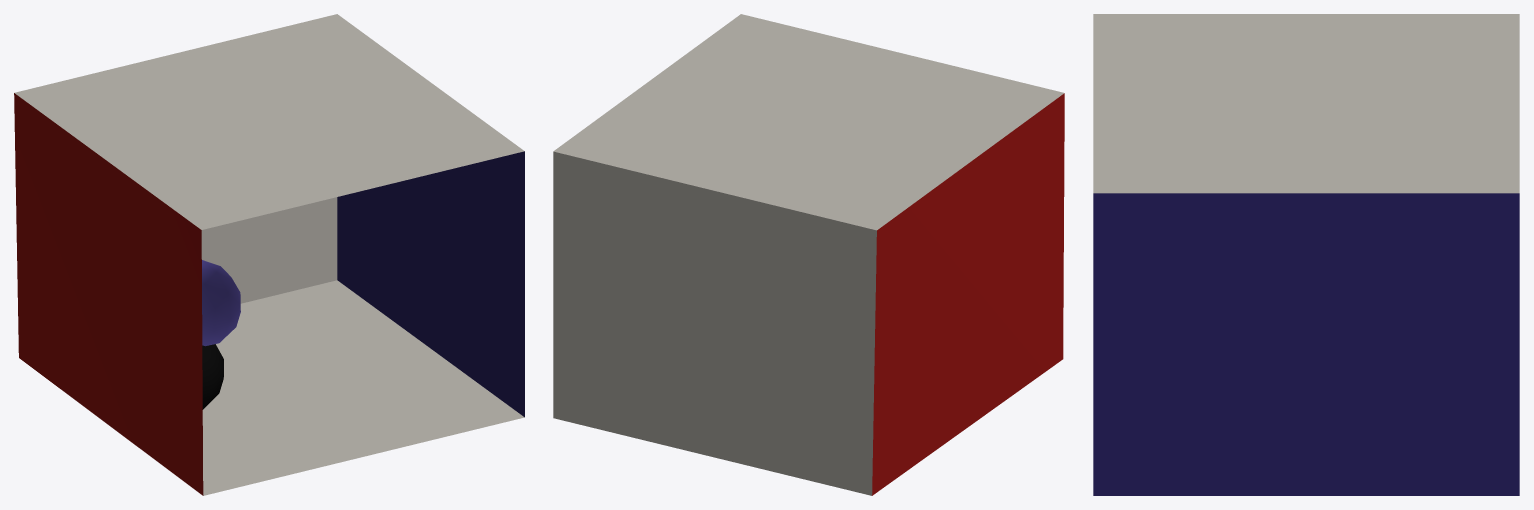
Rendered from CornellBox-Sphere-188.obj.
3 views of the same model, side by side, from view 1: azimuth 30°, elevation 25°; view 2: azimuth 150°, elevation 25°; view 3: azimuth 270°, elevation 25° (orthographic). The views are drawn at different scales.
Parts seen in each view (by area): view 1: ceiling, leftWall, floor, rightWall, backWall, leftSphere, rightSphere; view 2: backWall, ceiling, leftWall; view 3: rightWall, ceiling.
Part boxes in pixels (x1=…): ceiling: x1=14, y1=14, x2=524, y2=229; leftWall: x1=14, y1=93, x2=203, y2=495; floor: x1=202, y1=280, x2=524, y2=495; rightWall: x1=337, y1=151, x2=524, y2=417; backWall: x1=201, y1=197, x2=337, y2=303; leftSphere: x1=202, y1=260, x2=240, y2=346; rightSphere: x1=202, y1=344, x2=223, y2=409; backWall: x1=553, y1=151, x2=876, y2=495; ceiling: x1=553, y1=14, x2=1064, y2=230; leftWall: x1=872, y1=93, x2=1064, y2=495; rightWall: x1=1093, y1=193, x2=1519, y2=495; ceiling: x1=1093, y1=14, x2=1519, y2=193.
Size of the model in its own units: 2.02 by 1.59 by 2.03.
